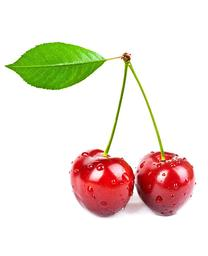cherry: (70, 148, 135, 216), (138, 151, 195, 217)
